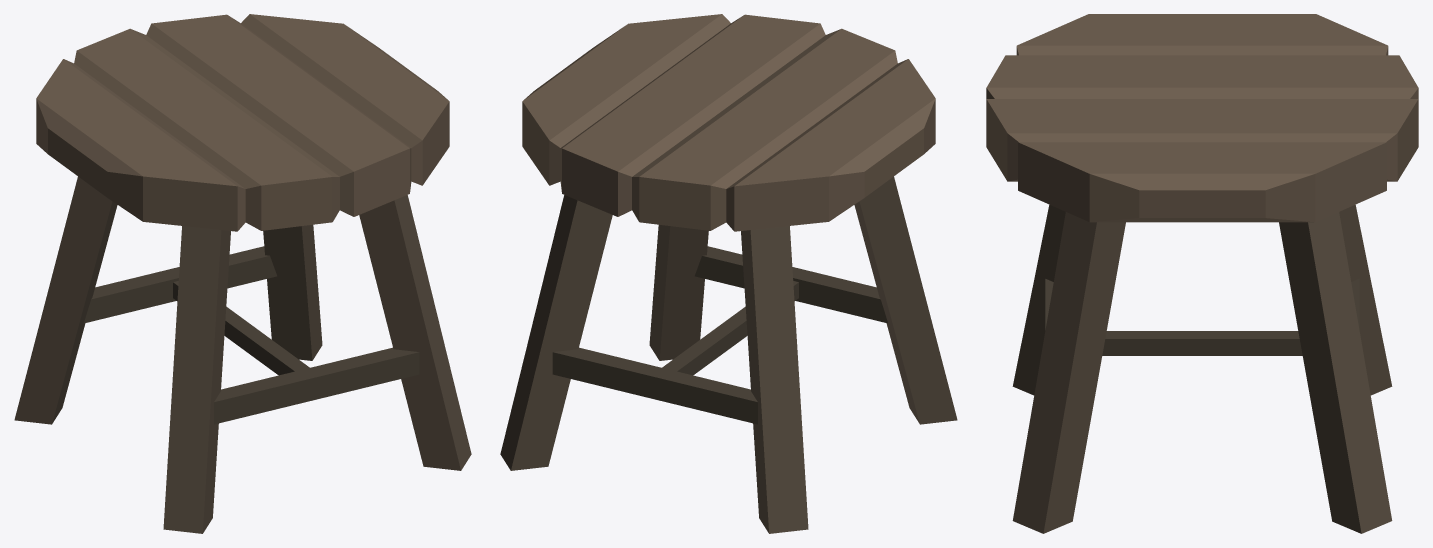
Rendered from SM_Prop_Stool_02.glb.
3 renders of one model, left to right at view 1: azimuth 30°, elevation 25°; view 2: azimuth 150°, elevation 25°; view 3: azimuth 270°, elevation 25°, orthographic. The views are drawn at different scales.
Visible parts, largest first — view 1: SM_Prop_Stool_02; view 2: SM_Prop_Stool_02; view 3: SM_Prop_Stool_02.
Part boxes in pixels (x1=…): SM_Prop_Stool_02: x1=14, y1=14, x2=471, y2=533; SM_Prop_Stool_02: x1=500, y1=14, x2=957, y2=533; SM_Prop_Stool_02: x1=986, y1=14, x2=1418, y2=533.
Size of the model in its own units: 0.00533 by 0.0052 by 0.00566.
